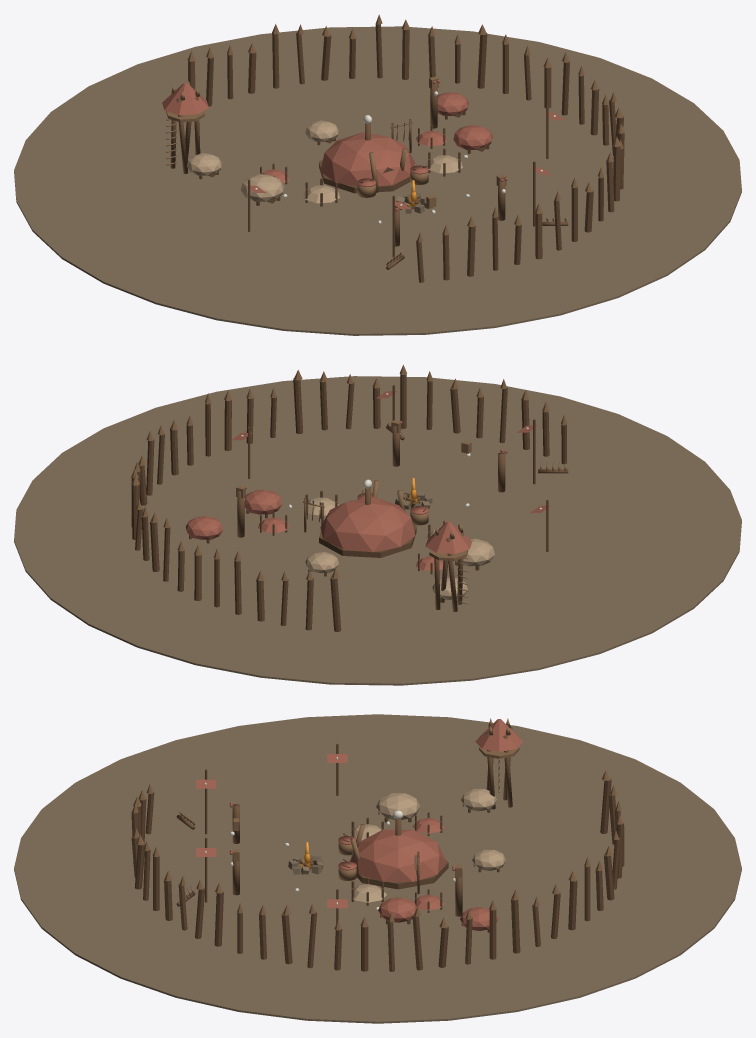
Rendered from orc_camp.glb.
3 views of the same model, one above another, from view 1: azimuth 30°, elevation 25°; view 2: azimuth 150°, elevation 25°; view 3: azimuth 270°, elevation 25° (orthographic).
Parts seen in each view (by area): view 1: Ground, GreatHall_Dome, Tower_Roof, Burrow_5_Dome, Burrow_6_Dome, Burrow_8_Dome, Burrow_7_Dome, Burrow_9_Dome; view 2: Ground, GreatHall_Dome, Tower_Roof, Burrow_6_Dome, Burrow_8_Dome, GreatHall_Platform, Burrow_5_Dome, Burrow_9_Dome; view 3: Ground, GreatHall_Dome, Tower_Roof, Burrow_5_Dome, Burrow_6_Dome, Burrow_7_Dome, GreatHall_Platform, Burrow_9_Dome, Burrow_8_Dome.
Boxes of the visible parts, left/top/right/bottom form: Ground: left=14, top=26, right=741, bottom=335; GreatHall_Dome: left=320, top=132, right=415, bottom=186; Tower_Roof: left=162, top=82, right=208, bottom=115; Burrow_5_Dome: left=241, top=174, right=284, bottom=201; Burrow_6_Dome: left=453, top=125, right=492, bottom=149; Burrow_8_Dome: left=437, top=92, right=468, bottom=115; Burrow_7_Dome: left=186, top=153, right=222, bottom=175; Burrow_9_Dome: left=305, top=120, right=338, bottom=141; Ground: left=14, top=376, right=741, bottom=685; GreatHall_Dome: left=320, top=497, right=415, bottom=552; Tower_Roof: left=425, top=521, right=472, bottom=553; Burrow_6_Dome: left=244, top=489, right=282, bottom=514; Burrow_8_Dome: left=185, top=516, right=223, bottom=539; GreatHall_Platform: left=319, top=524, right=416, bottom=557; Burrow_5_Dome: left=456, top=538, right=494, bottom=566; Burrow_9_Dome: left=305, top=552, right=338, bottom=572; Ground: left=14, top=714, right=741, bottom=1023; GreatHall_Dome: left=350, top=829, right=446, bottom=881; Tower_Roof: left=475, top=719, right=523, bottom=751; Burrow_5_Dome: left=376, top=793, right=420, bottom=819; Burrow_6_Dome: left=378, top=897, right=416, bottom=922; Burrow_7_Dome: left=461, top=788, right=496, bottom=811; GreatHall_Platform: left=349, top=859, right=448, bottom=889; Burrow_9_Dome: left=472, top=849, right=506, bottom=870; Burrow_8_Dome: left=460, top=907, right=498, bottom=930.
Bounding box in the file's own units: 36 × 4.75 × 36.
